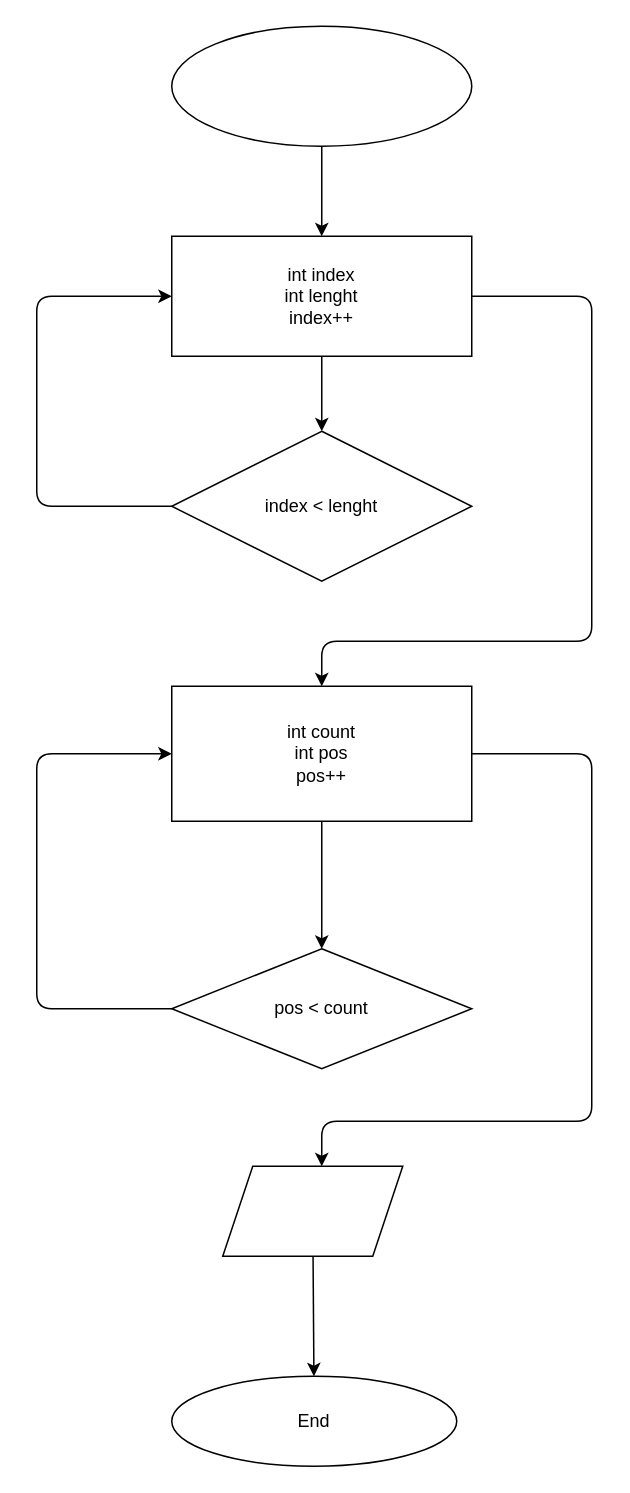
Some shapes in this 630 by 1493 pixel diagram are drawn without their labels. Each missing label, with the box of its shape:
print array: (221, 1165, 403, 1256)
Start: (170, 25, 472, 146)
